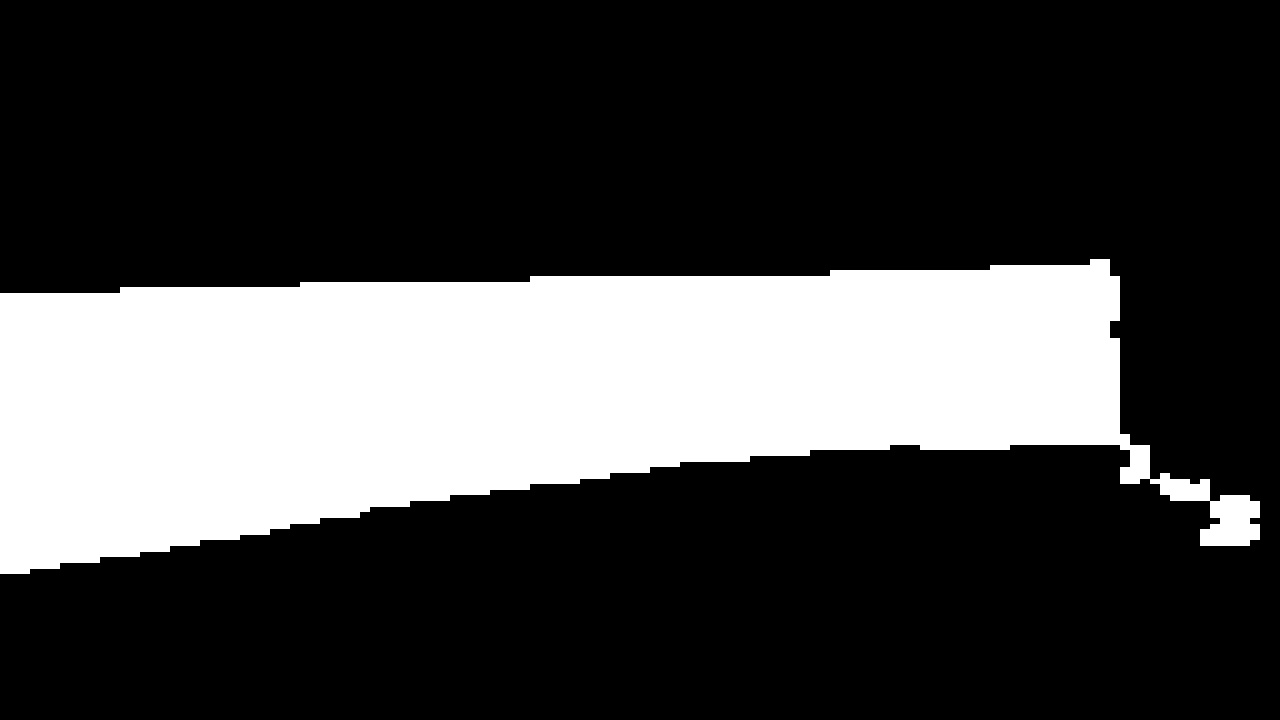Turbine: (12, 234, 1128, 557)
